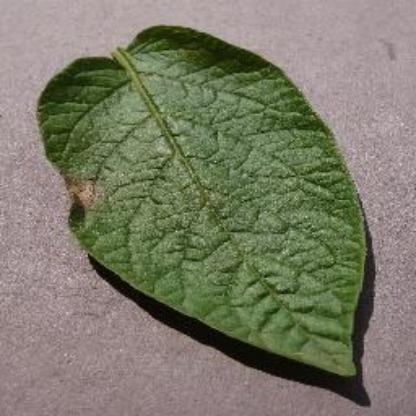Late-Blight: (25, 17, 392, 396)
